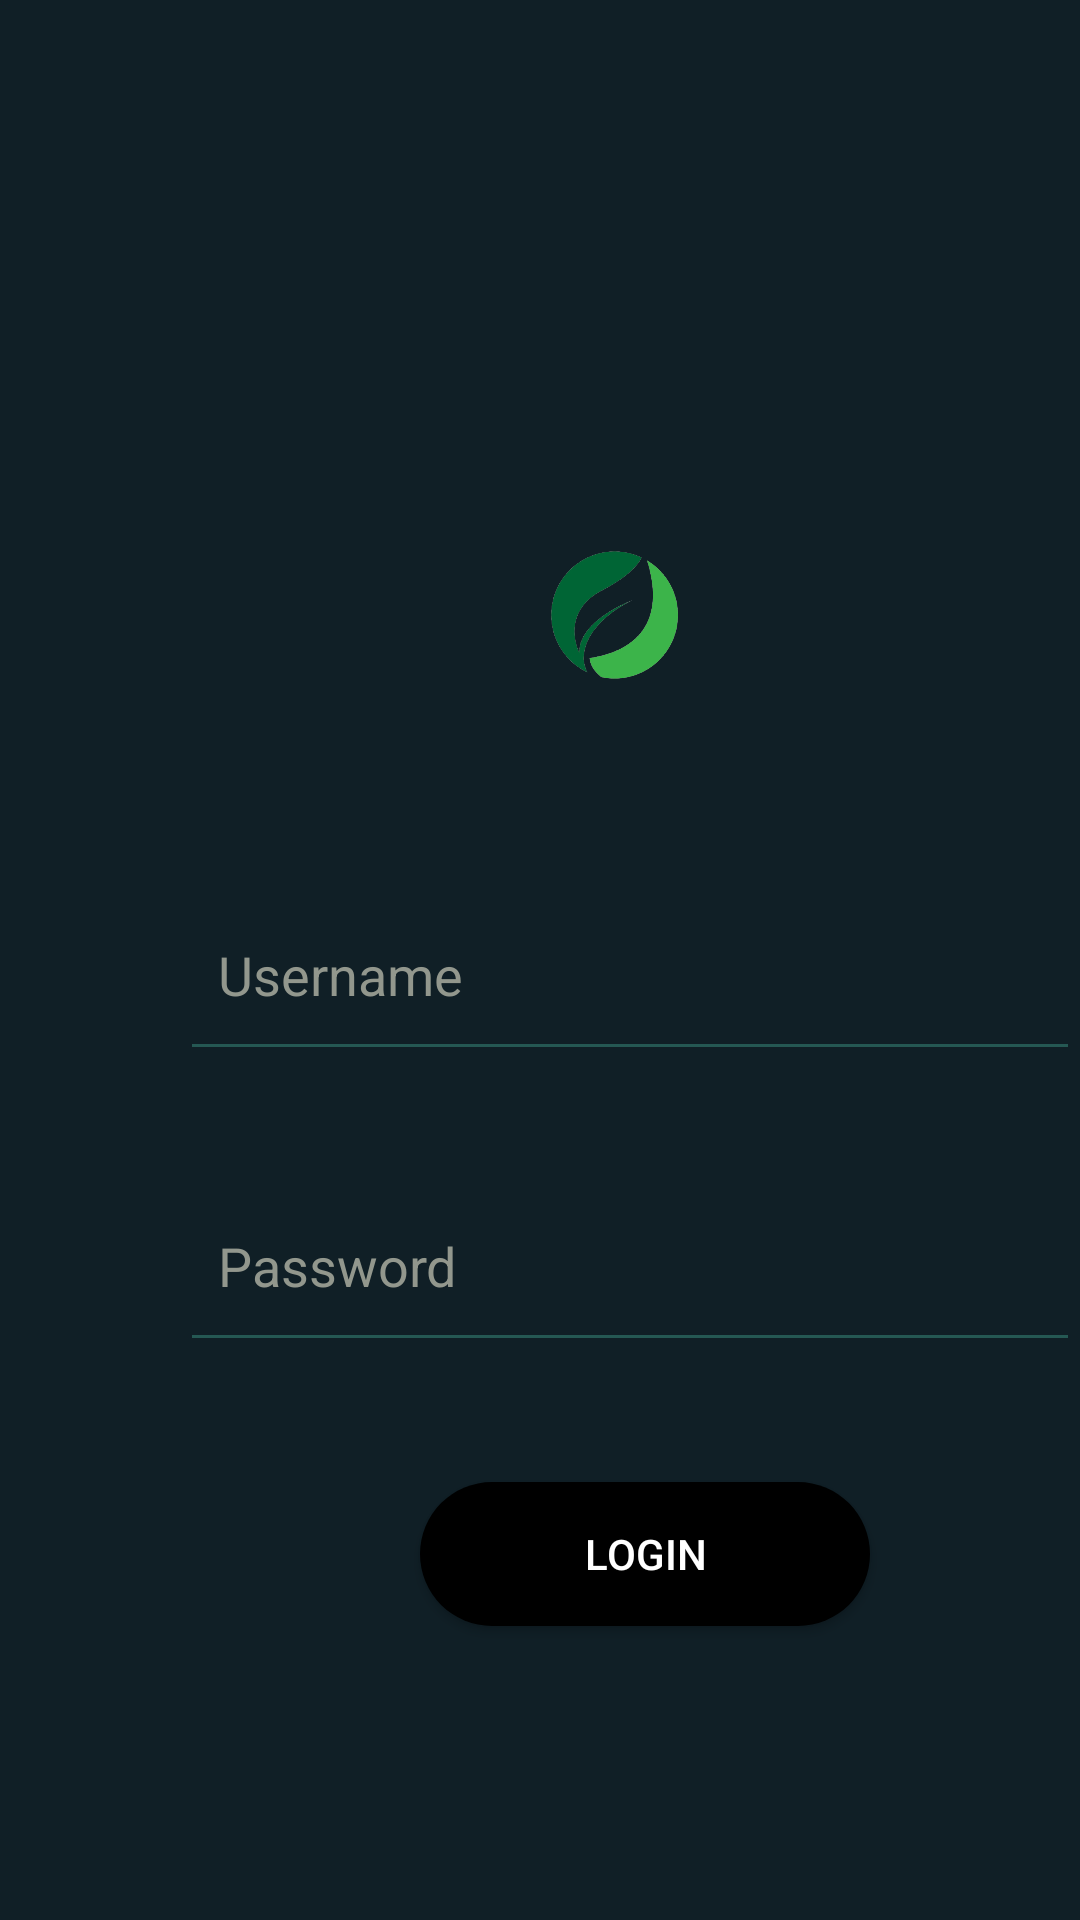

Locate icon controls on the screen. Image size 1080 × 1920, boxes as (x1, y1, x2, y2).
leafy: (551, 551, 678, 679)
